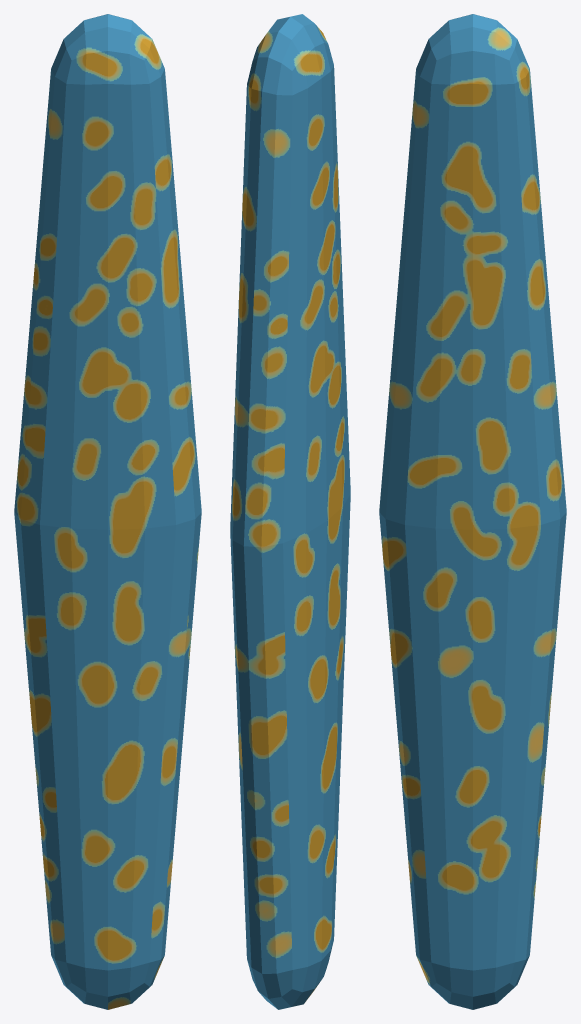
File: testObj.obj
3 renders of one model, left to right at view 1: azimuth 90°, elevation 25°; view 2: azimuth 150°, elevation 25°; view 3: azimuth 270°, elevation 25°, orthographic.
Parts seen in each view (by area): view 1: 立方体; view 2: 立方体; view 3: 立方体.
Part boxes in pixels (left/top/right/bottom): 立方体: left=14, top=14, right=201, bottom=1009; 立方体: left=230, top=14, right=350, bottom=1009; 立方体: left=379, top=14, right=566, bottom=1009.
Size of the model in its own units: 0.7577 by 9.85 by 1.68.
Materials: 1 (1 with a texture image).
